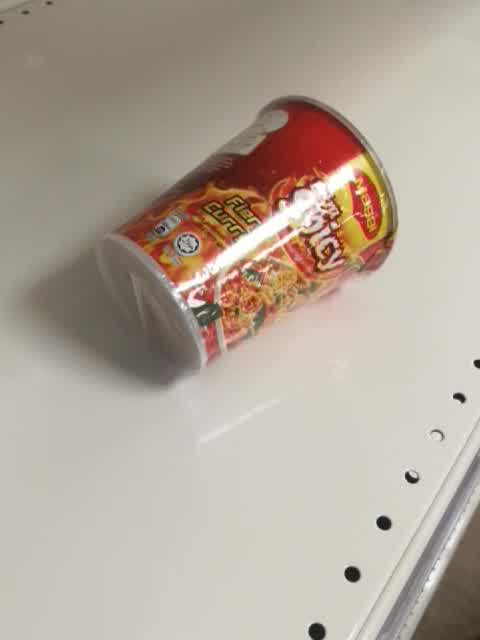maggi: (92, 94, 399, 378)
